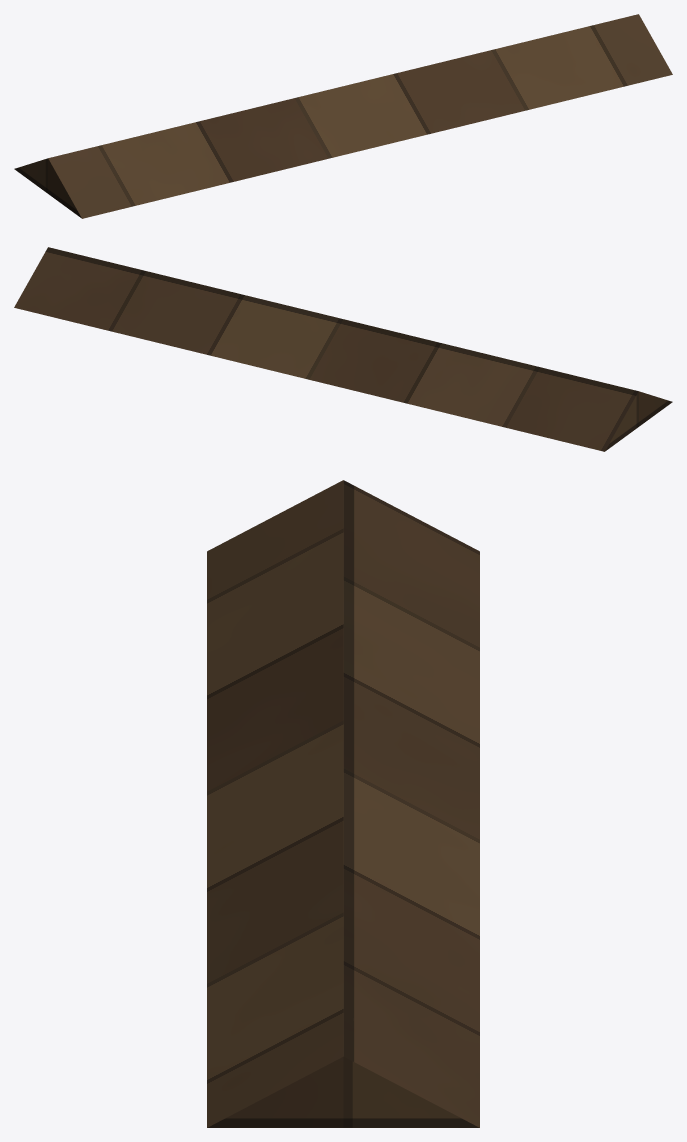
File: ridge_cap_straight_2m.glb
3 renders of one model, top to bottom at view 1: azimuth 30°, elevation 25°; view 2: azimuth 150°, elevation 25°; view 3: azimuth 270°, elevation 25°, orthographic. The views are drawn at different scales.
Parts seen in each view (by area): view 1: ridge_cap_straight_2m; view 2: ridge_cap_straight_2m; view 3: ridge_cap_straight_2m.
Part boxes in pixels (x1,y1,x2,y2): ridge_cap_straight_2m: [14, 14, 672, 218]; ridge_cap_straight_2m: [14, 247, 672, 451]; ridge_cap_straight_2m: [207, 480, 479, 1127].
Size of the model in its own units: 2 by 0.1155 by 0.4.
Materials: 1 (1 with a texture image).
